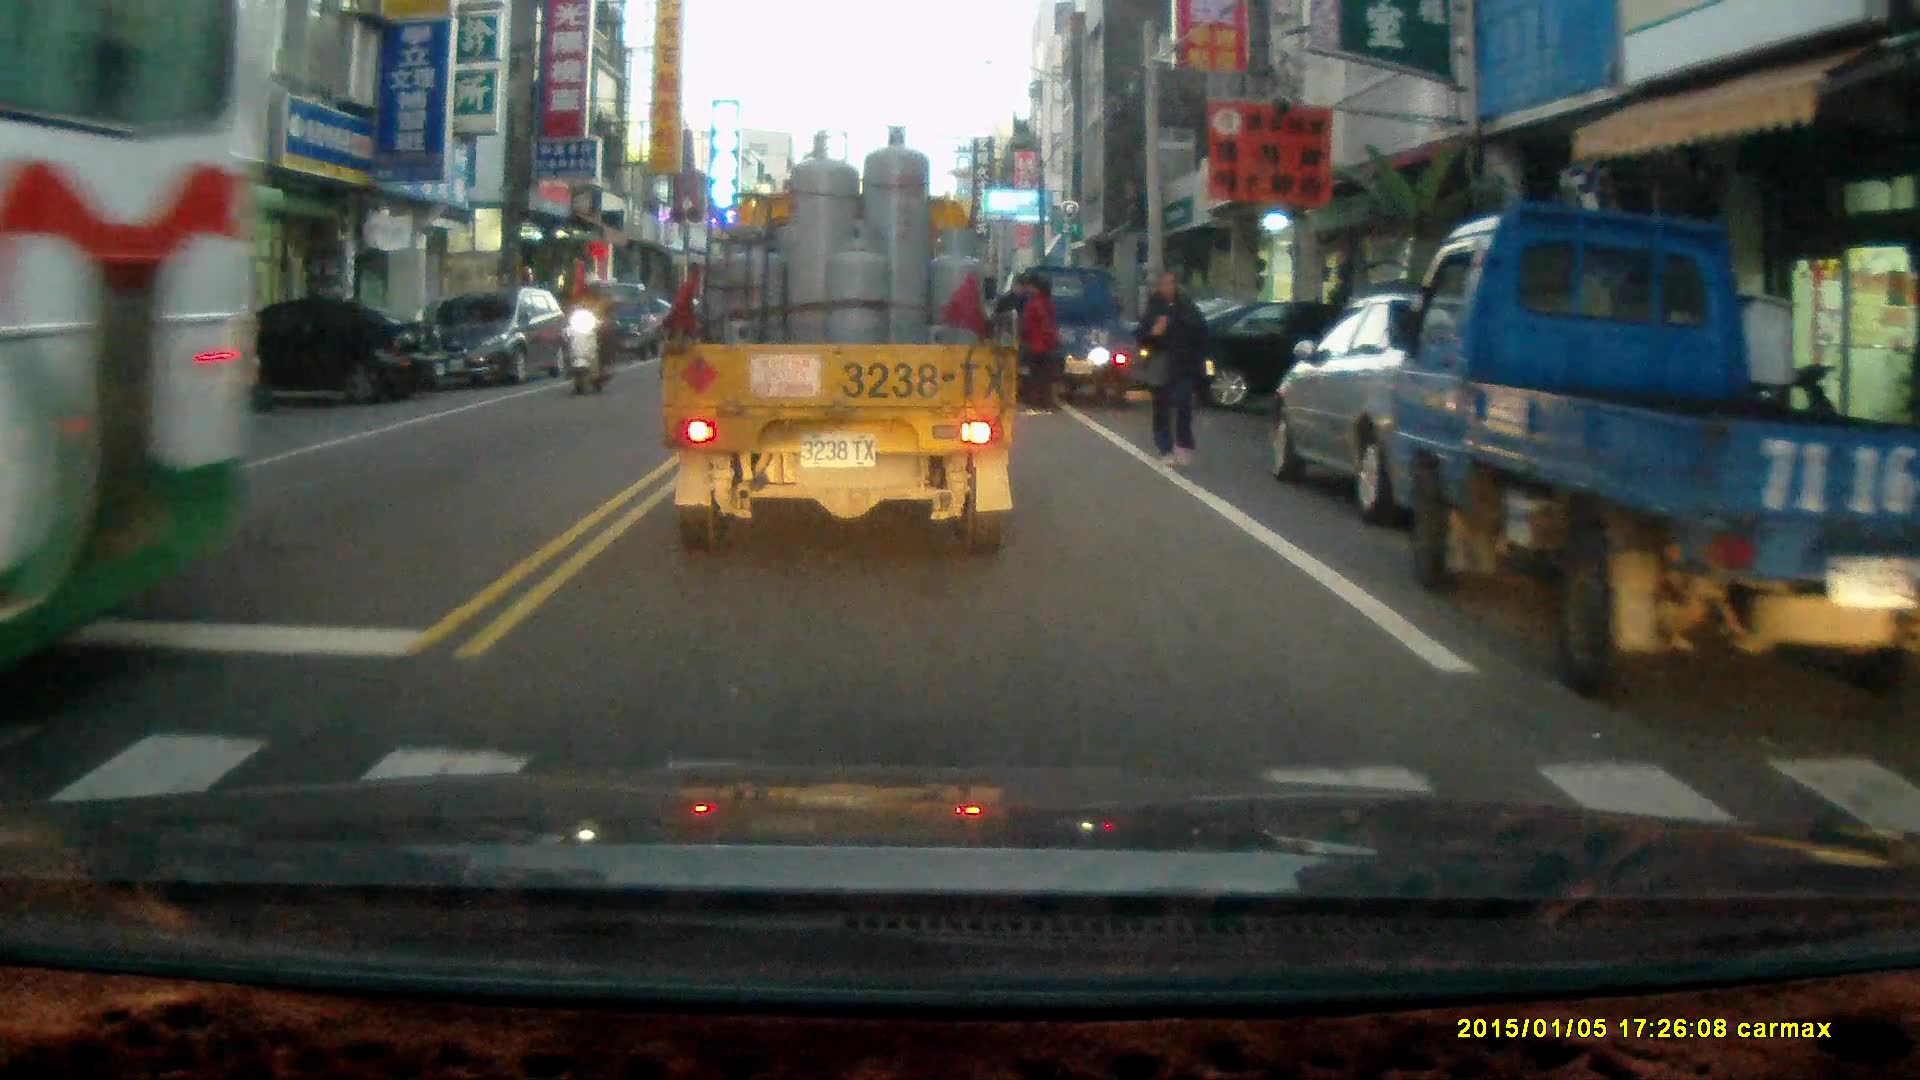pedestrian: (1134, 267, 1226, 467), (1018, 274, 1056, 410)
rider: (560, 267, 615, 393)
vehicle: (1384, 200, 1920, 702), (1, 2, 252, 658), (663, 123, 1021, 558), (1265, 286, 1592, 531), (1158, 295, 1429, 421), (1002, 261, 1147, 405), (429, 287, 572, 391), (577, 278, 675, 363)
